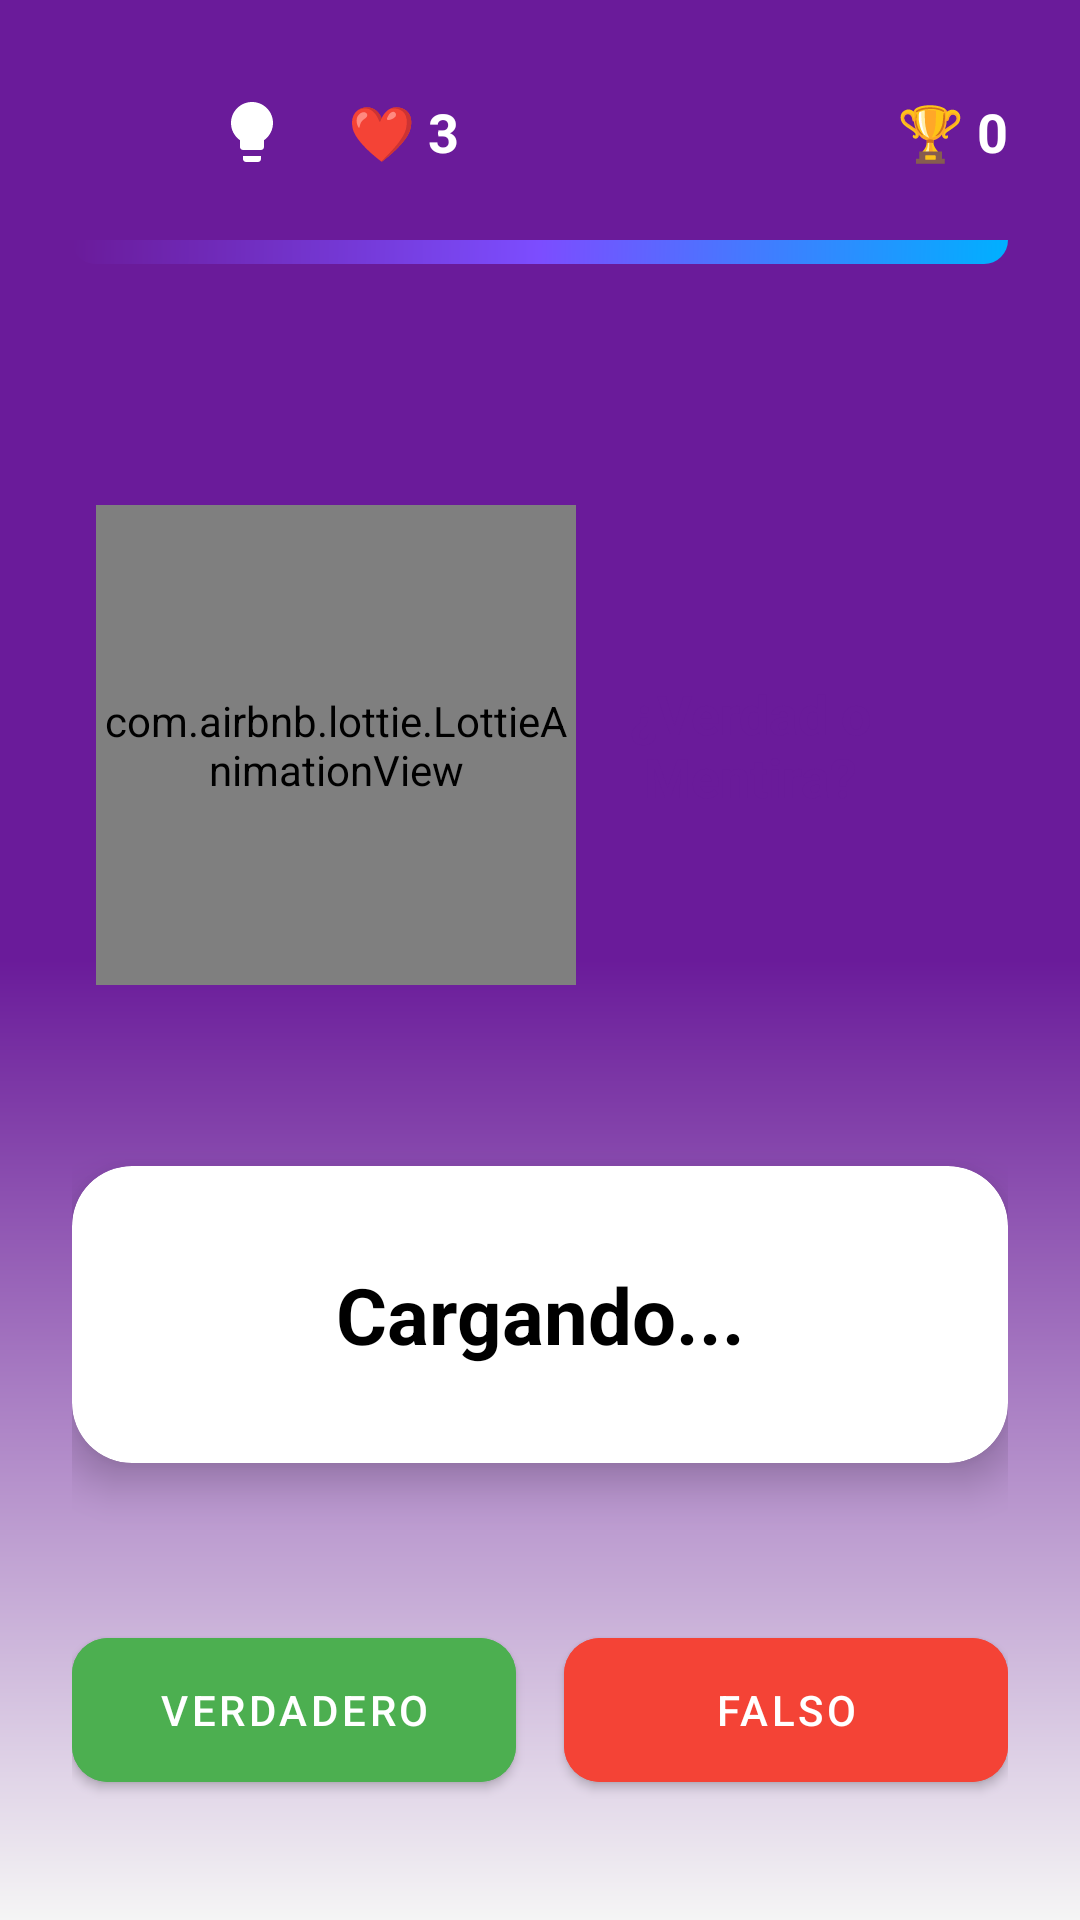

Icons on this 1080×1920 Android screen, each with its box as region(x1, y1, x2, y2):
foco: region(231, 102, 273, 162)
